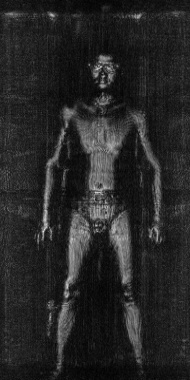gun: (40, 296, 59, 339)
